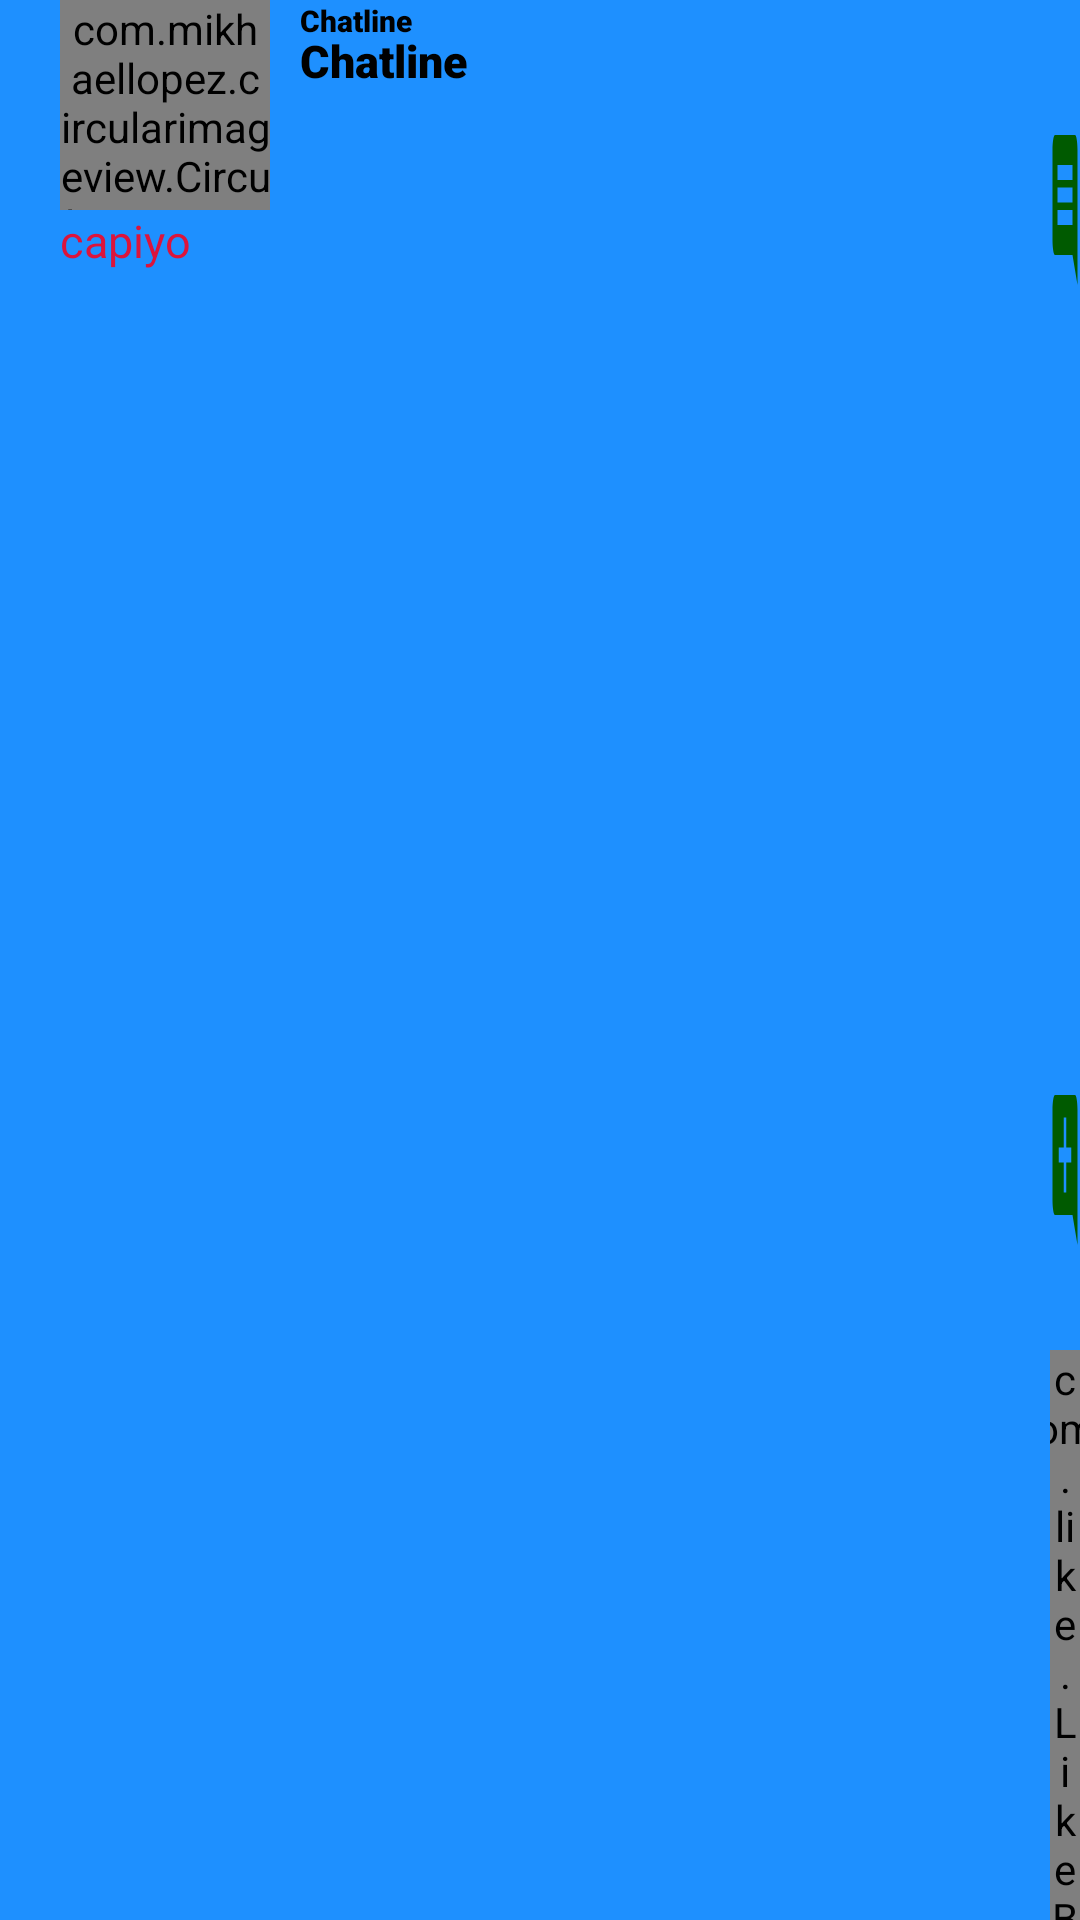

Icons on this 1080*1920 Android screen, each with its box as (x1, y1, x2, y2):
messaging: (1052, 135, 1078, 284)
